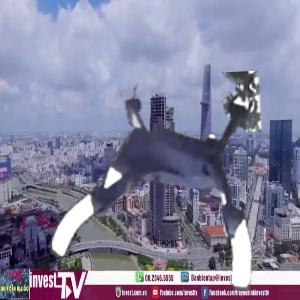drone: (45, 77, 268, 300)
